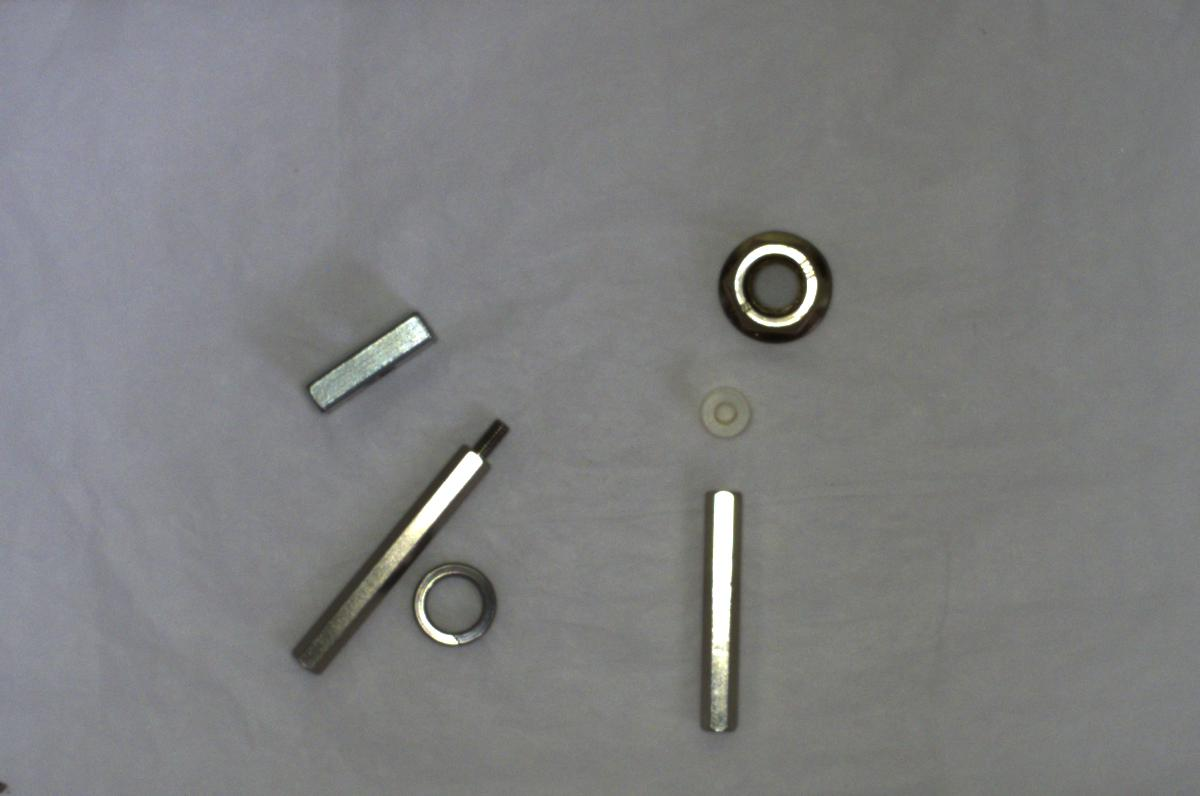Double hexagonal column: (687, 480, 754, 748)
Flange nut: (713, 225, 846, 346)
Hexagonal steel column: (278, 402, 522, 682)
Plastic cushion pillar: (693, 381, 757, 441)
Rectangular nut: (313, 308, 433, 414)
Spring washer: (407, 559, 506, 653)
